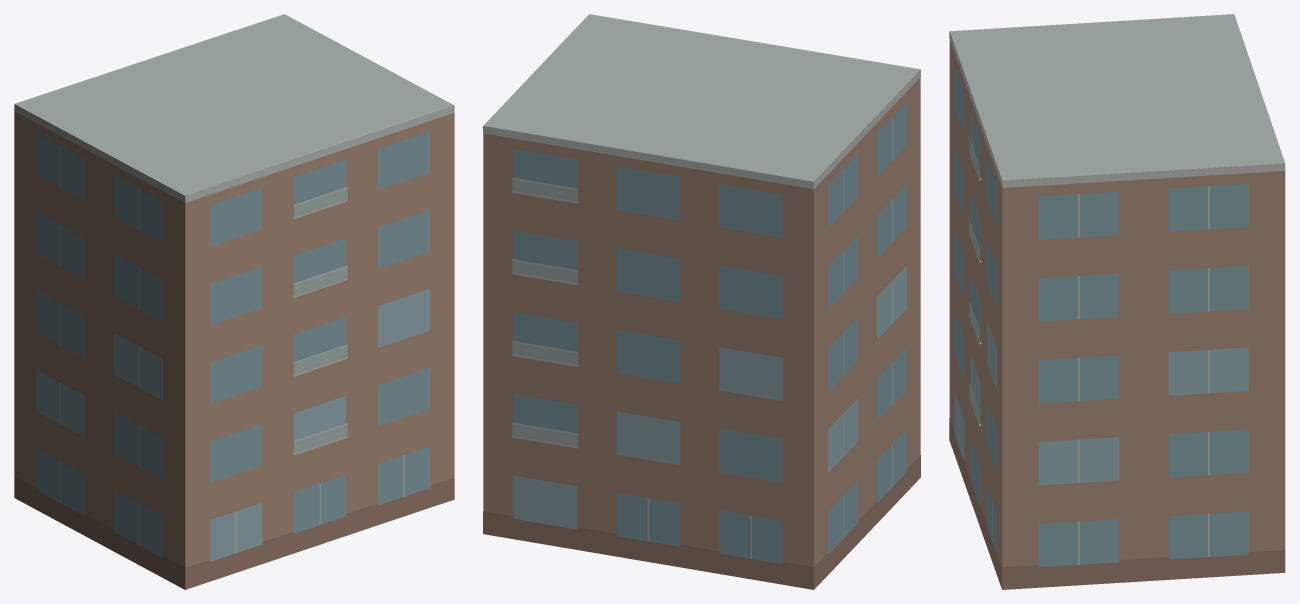
The model's file is survey-upis-32937214.glb.
The picture shows the model from 3 angles, left to right: view 1: azimuth 30°, elevation 25°; view 2: azimuth 150°, elevation 25°; view 3: azimuth 270°, elevation 25°; orthographic projection. The views are drawn at different scales.
Parts seen in each view (by area): view 1: survey-upis-32937214.tmp; view 2: survey-upis-32937214.tmp; view 3: survey-upis-32937214.tmp.
Boxes of the visible parts, x1,y1,x2,y2 form: survey-upis-32937214.tmp: [14, 14, 454, 589]; survey-upis-32937214.tmp: [483, 14, 920, 589]; survey-upis-32937214.tmp: [949, 14, 1285, 589].
Size of the model in its own units: 11.66 by 13.35 by 9.93.
